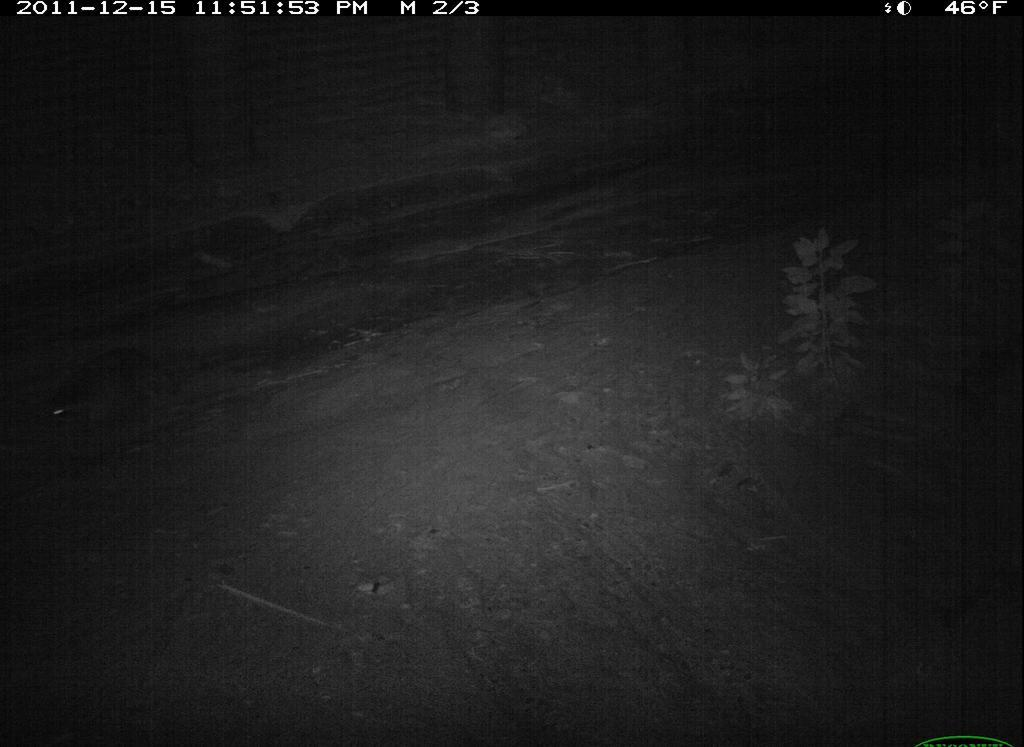raccoon: (34, 335, 187, 461)
